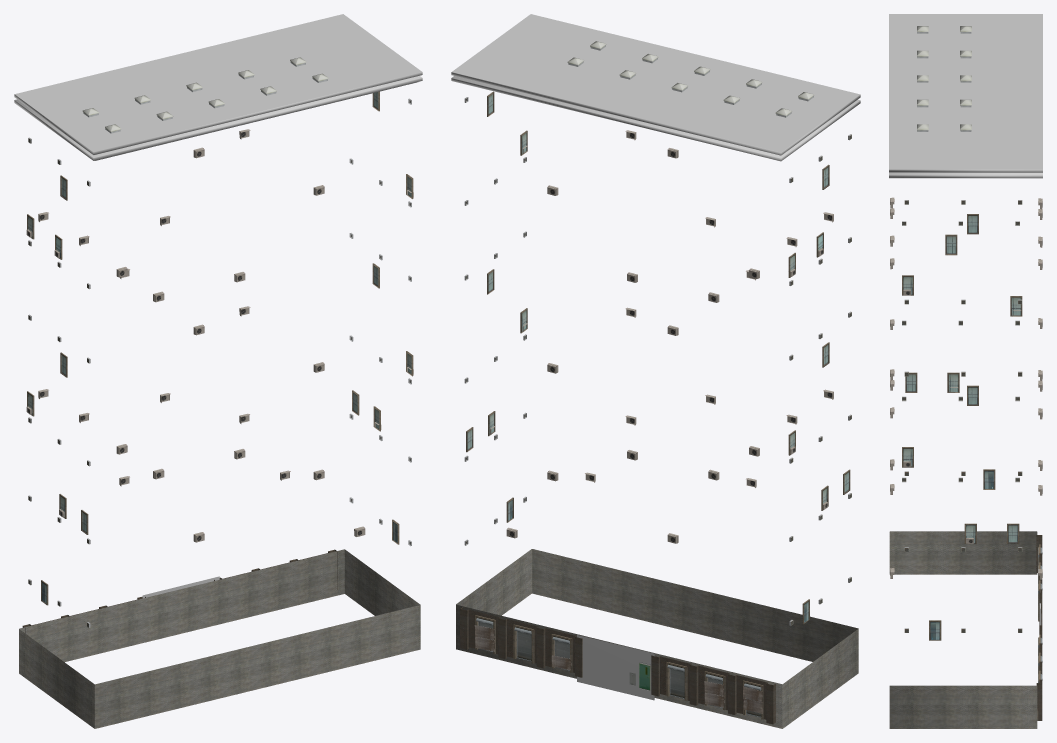
File: u2NEBuild4.gltf
3 renders of one model, left to right at view 1: azimuth 30°, elevation 25°; view 2: azimuth 150°, elevation 25°; view 3: azimuth 270°, elevation 25°, orthographic. The views are drawn at different scales.
Parts seen in each view (by area): view 1: u2NEBuild4; view 2: u2NEBuild4; view 3: u2NEBuild4.
Boxes of the visible parts, x1,y1,x2,y2 form: u2NEBuild4: (14, 14, 422, 728); u2NEBuild4: (451, 14, 860, 728); u2NEBuild4: (889, 14, 1042, 728).
Size of the model in its own units: 11.81 by 20.01 by 4.93.
